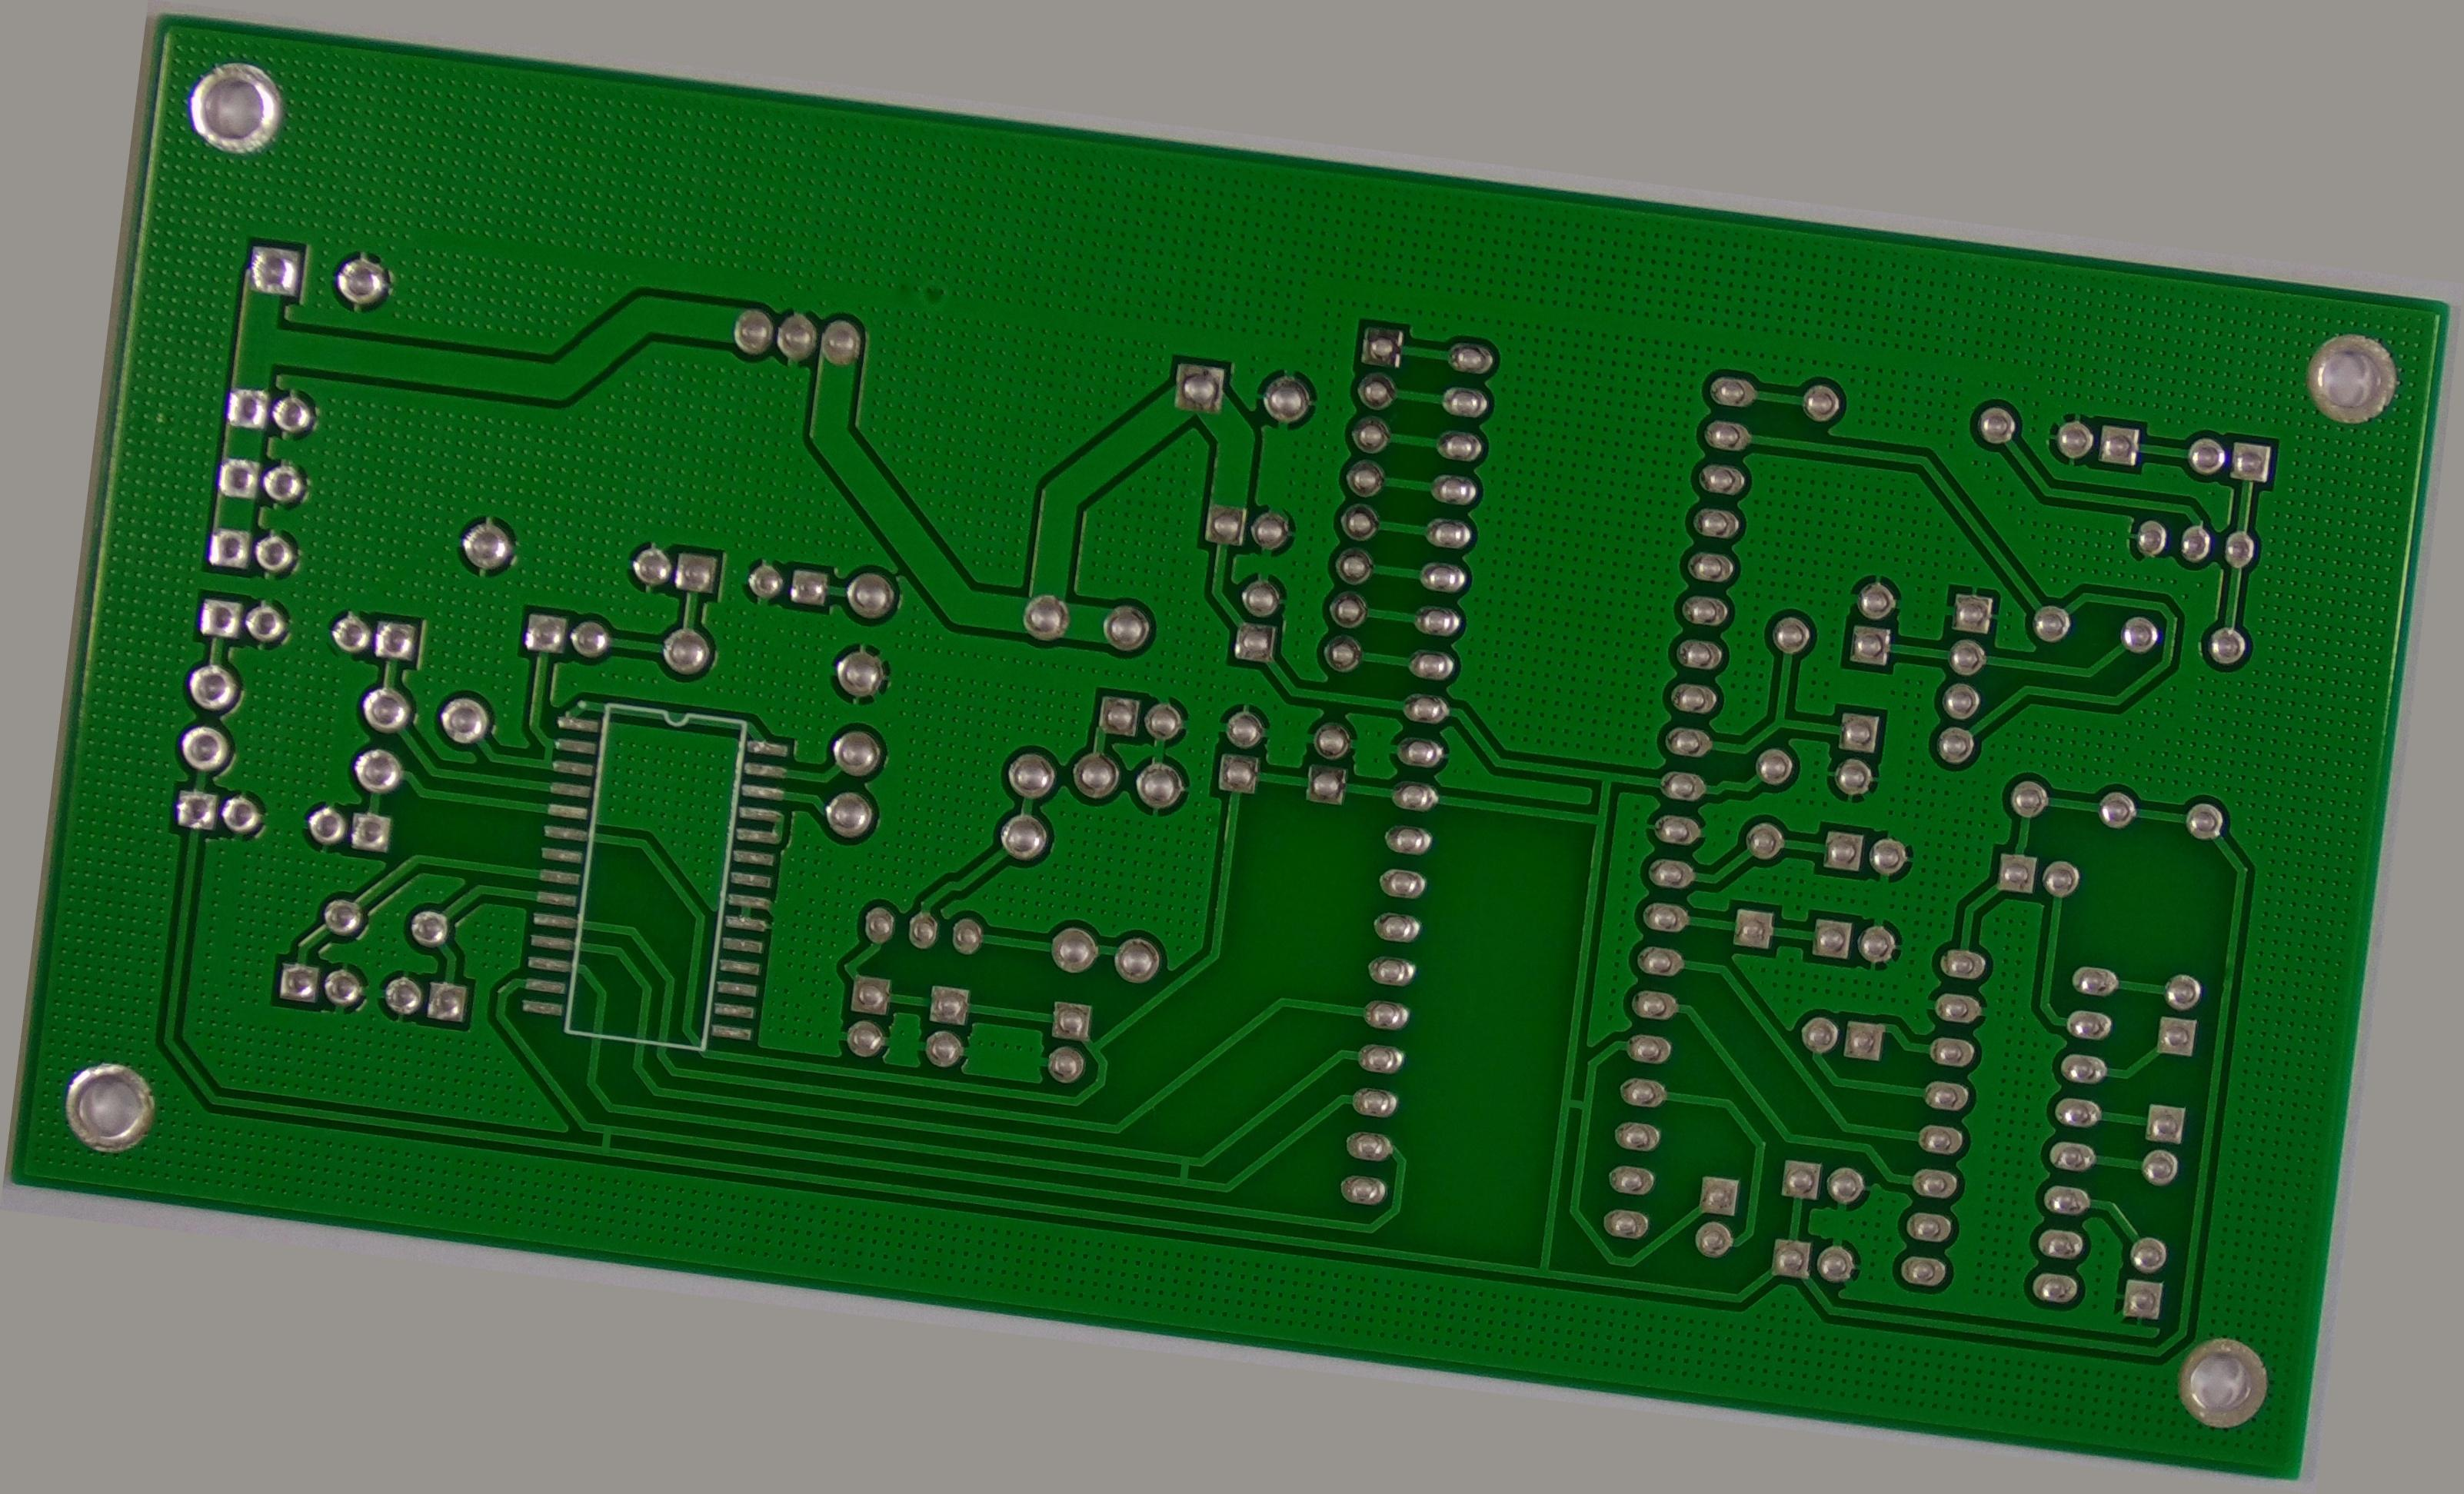short: (1607, 1102, 1663, 1154), (605, 1290, 651, 1350), (1214, 1244, 1255, 1300), (489, 827, 532, 878)
